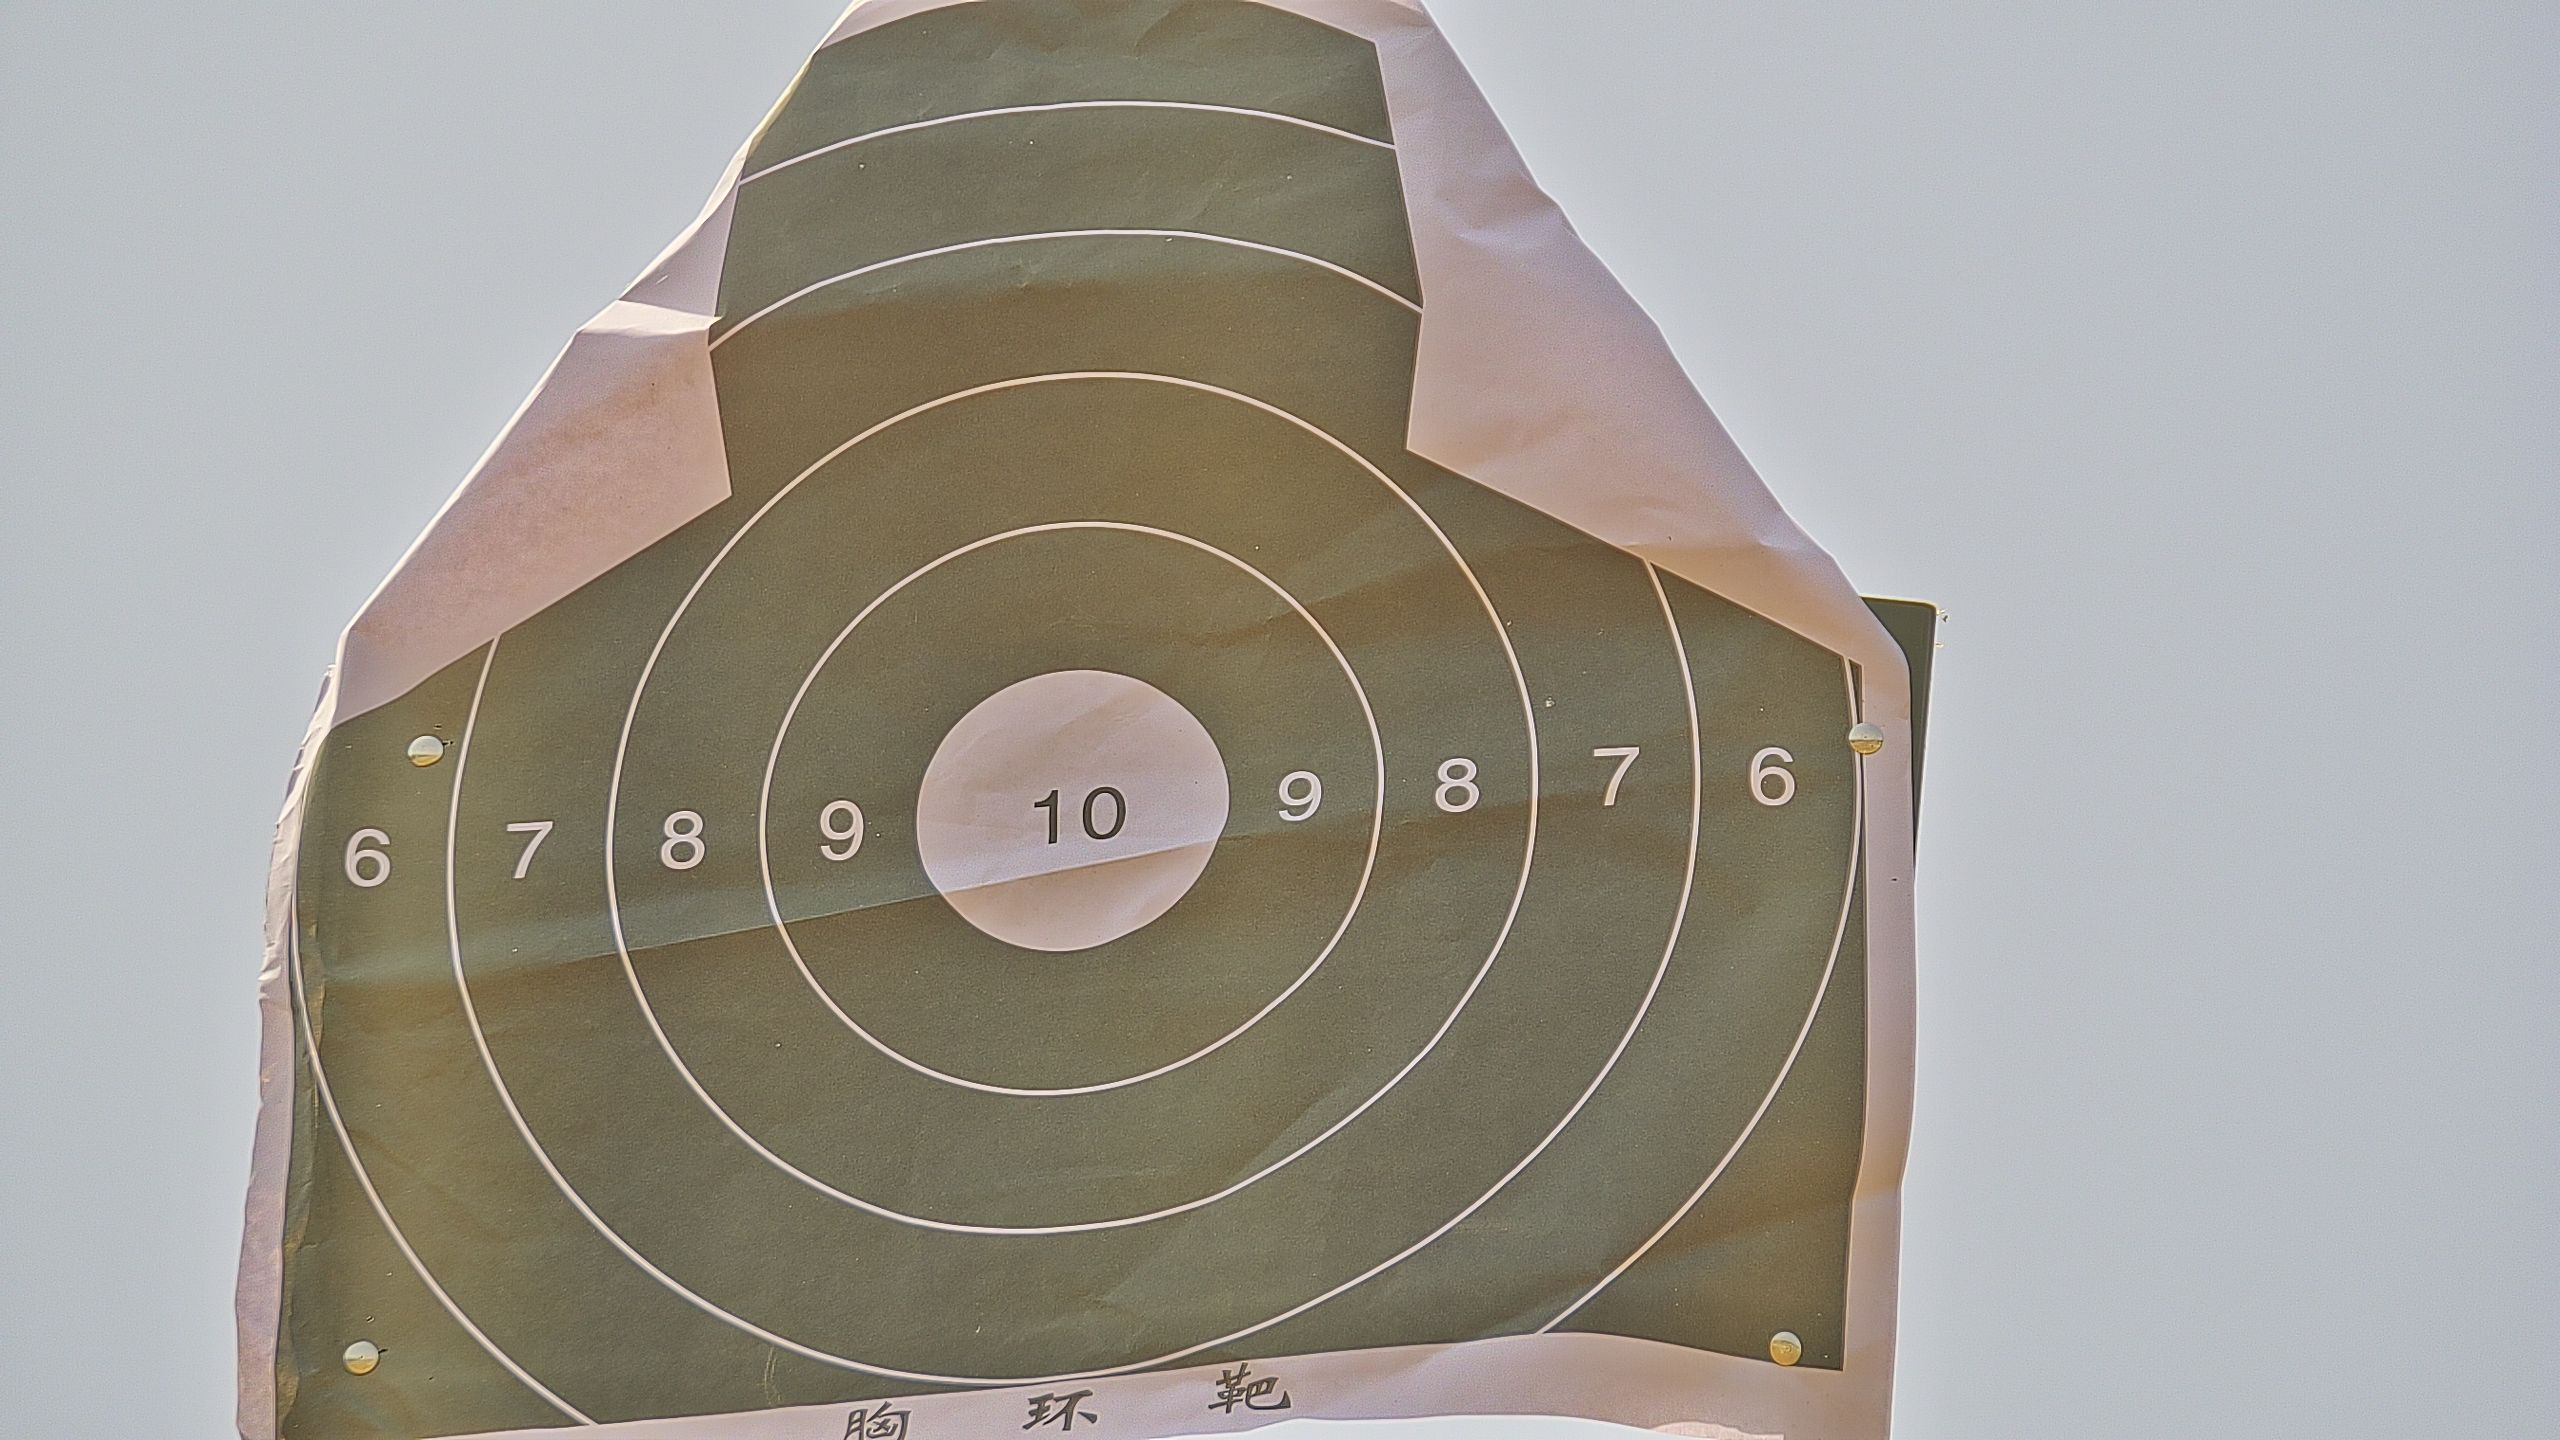kernel: (1071, 816, 1073, 823)
target: (267, 7, 1878, 1440)
ten: (913, 672, 1238, 951)
